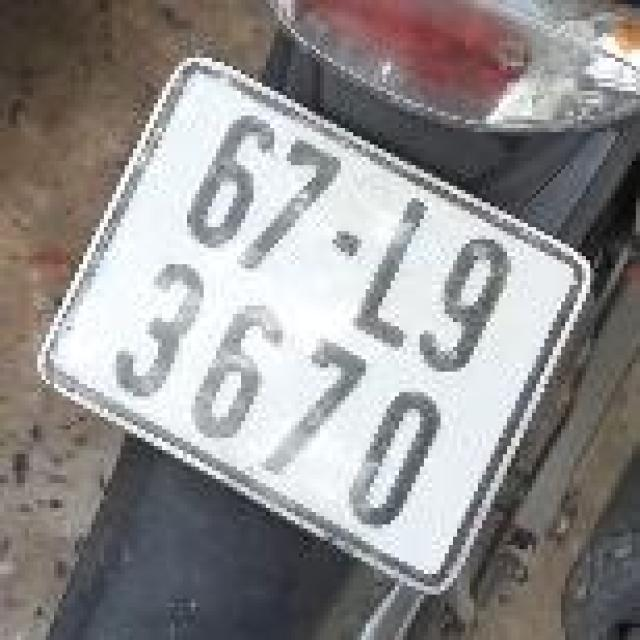0: (331, 372, 463, 546)
3: (101, 246, 227, 413)
6: (178, 287, 303, 456), (172, 99, 293, 265)
7: (248, 323, 382, 497), (229, 124, 354, 293)
9: (406, 210, 535, 392)
L: (340, 176, 471, 364)
